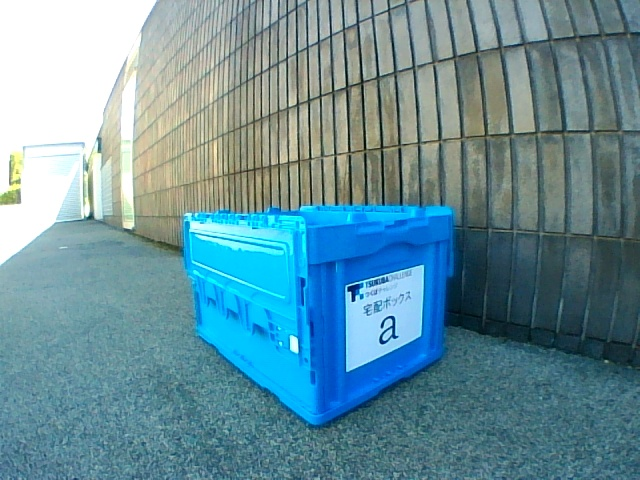blue_box: (183, 205, 452, 426)
tag_a: (364, 288, 404, 345)
